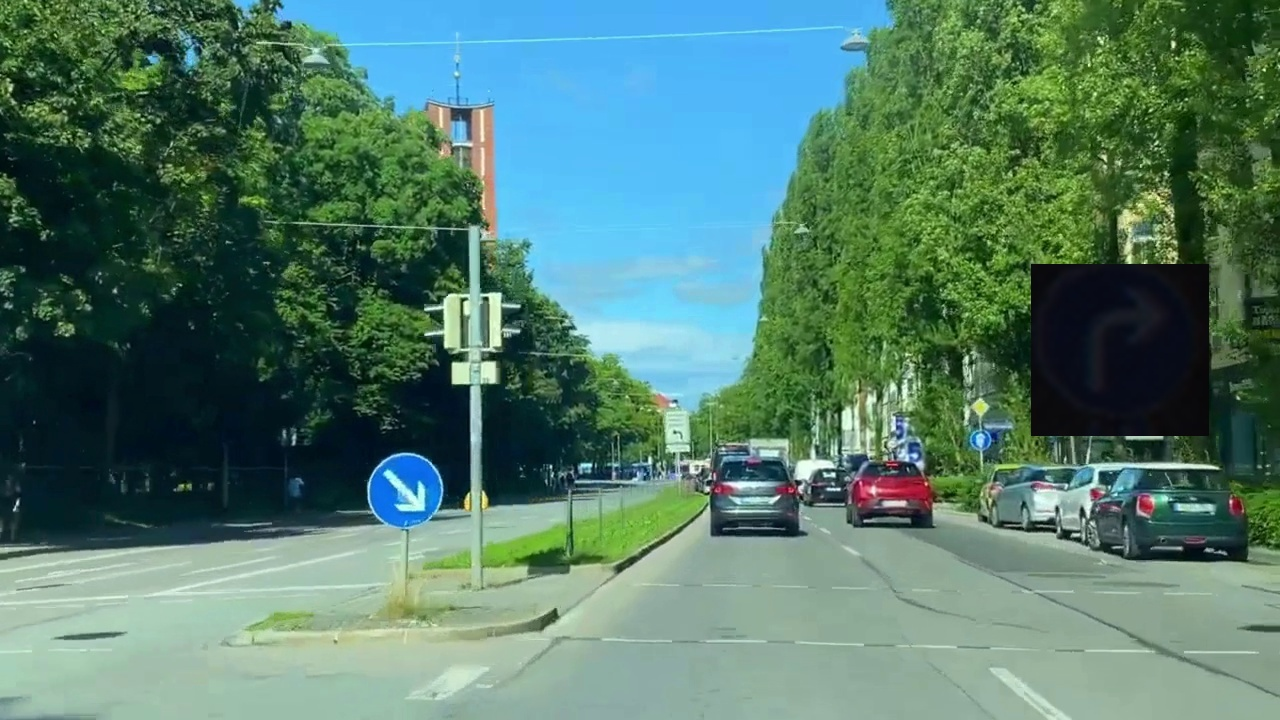Turn right: (1031, 264, 1209, 436)
